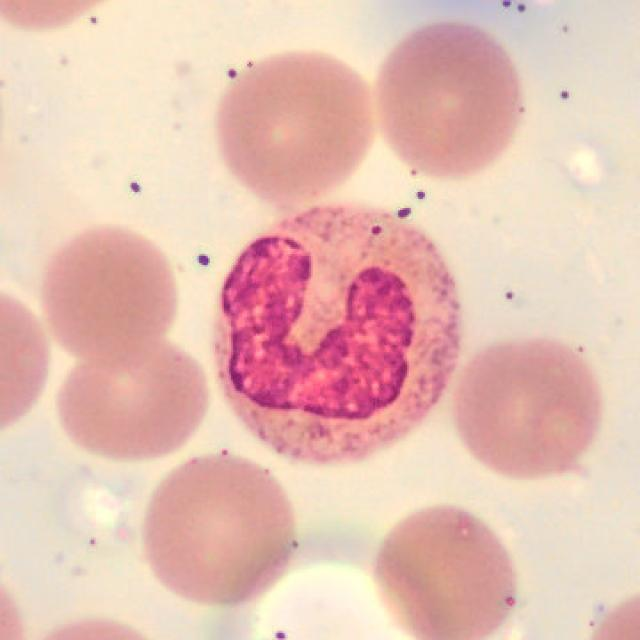Bastonete: (215, 206, 462, 464)
